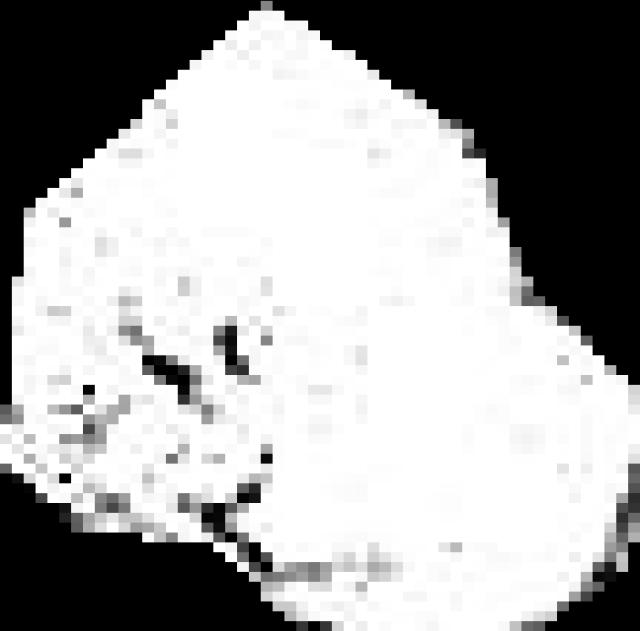tumor_good_chance: (0, 1, 640, 631)
